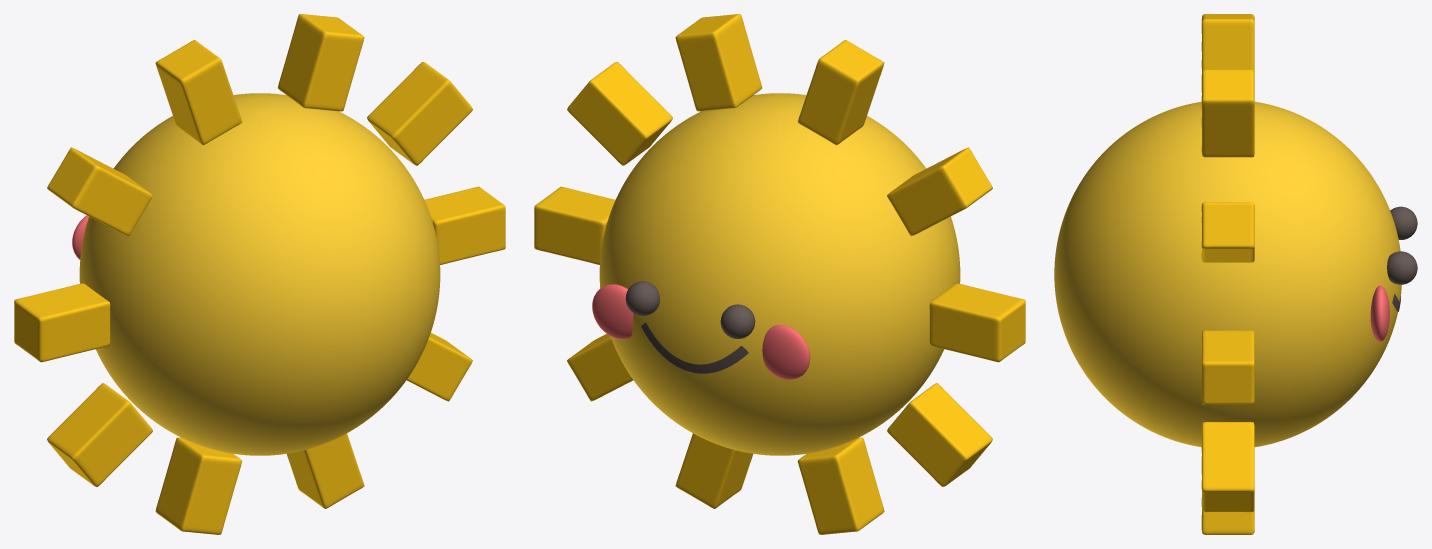
Rendered from sun.glb.
3 views of the same model, side by side, from view 1: azimuth 30°, elevation 25°; view 2: azimuth 150°, elevation 25°; view 3: azimuth 270°, elevation 25° (orthographic). The views are drawn at different scales.
Visible parts, largest first — view 1: Sun, Ray_02, Ray_01, Ray_06, Ray_05, Ray_07, Ray_03, Ray_04, Ray_00, Ray_08, Ray_09; view 2: Sun, Ray_02, Ray_06, Ray_01, Ray_05, Ray_07, Ray_03, Ray_04, Ray_00, Ray_08, Ray_09, Sphere.002 (+4 smaller); view 3: Sun, Ray_09, Ray_02, Ray_00, Ray_01, Ray_03, Ray_08, Sphere.003, Sphere.001, Sphere.
Boxes of the visible parts, x1,y1,x2,y2 form: Sun: [79, 93, 440, 455]; Ray_02: [277, 14, 364, 111]; Ray_01: [367, 62, 472, 165]; Ray_06: [47, 383, 152, 486]; Ray_05: [14, 283, 110, 362]; Ray_07: [155, 437, 242, 534]; Ray_03: [155, 40, 242, 145]; Ray_04: [47, 147, 152, 236]; Ray_00: [424, 186, 505, 264]; Ray_08: [286, 433, 364, 508]; Ray_09: [406, 333, 472, 401]; Sun: [599, 93, 960, 455]; Ray_02: [675, 14, 762, 111]; Ray_06: [887, 383, 992, 486]; Ray_01: [567, 62, 672, 165]; Ray_05: [929, 283, 1025, 362]; Ray_07: [797, 437, 884, 534]; Ray_03: [797, 40, 884, 145]; Ray_04: [887, 147, 992, 236]; Ray_00: [534, 186, 615, 264]; Ray_08: [675, 433, 753, 508]; Ray_09: [567, 334, 633, 401]; Sphere.002: [762, 325, 810, 379]; Sun: [1054, 101, 1401, 447]; Ray_09: [1201, 422, 1254, 512]; Ray_02: [1201, 69, 1254, 157]; Ray_00: [1201, 330, 1254, 404]; Ray_01: [1201, 202, 1254, 262]; Ray_03: [1201, 14, 1254, 92]; Ray_08: [1201, 456, 1254, 534]; Sphere.003: [1370, 285, 1389, 341]; Sphere.001: [1387, 251, 1417, 284]; Sphere: [1390, 206, 1417, 239].
Size of the model in its own units: 2.95 by 2.88 by 2.06.
